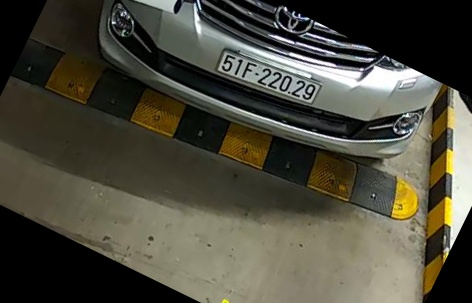plate: (215, 49, 330, 107)
